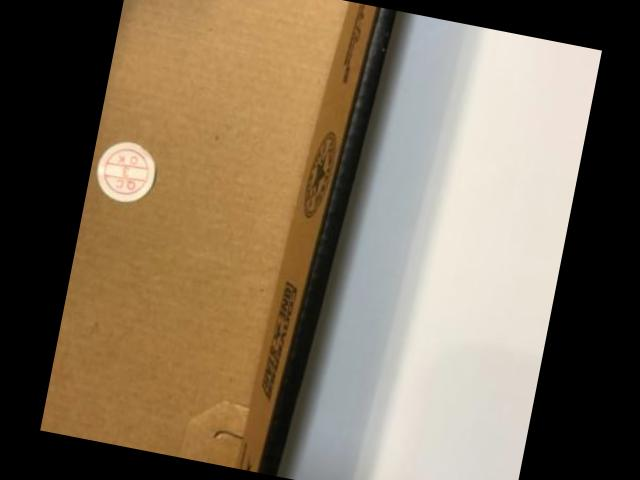cardboard paper: (39, 0, 376, 472)
